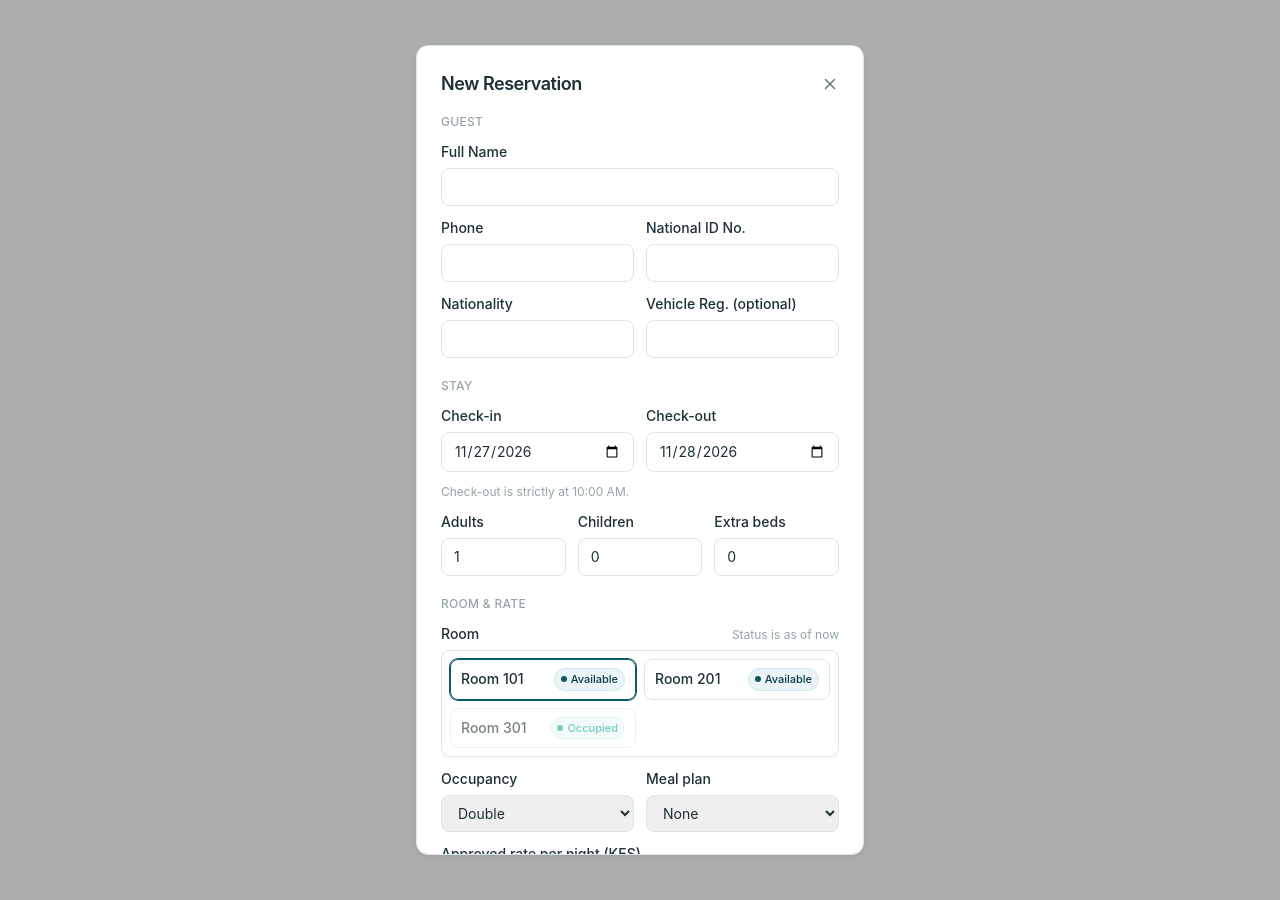
it: CreateReservationModal pricing › keeps the occupancy pickers when a later quote fails
The width and height of the screenshot is (1280, 900).
Replace the text in the number field with test id "adults" with "3" at (503, 557), box [441,538,566,576]
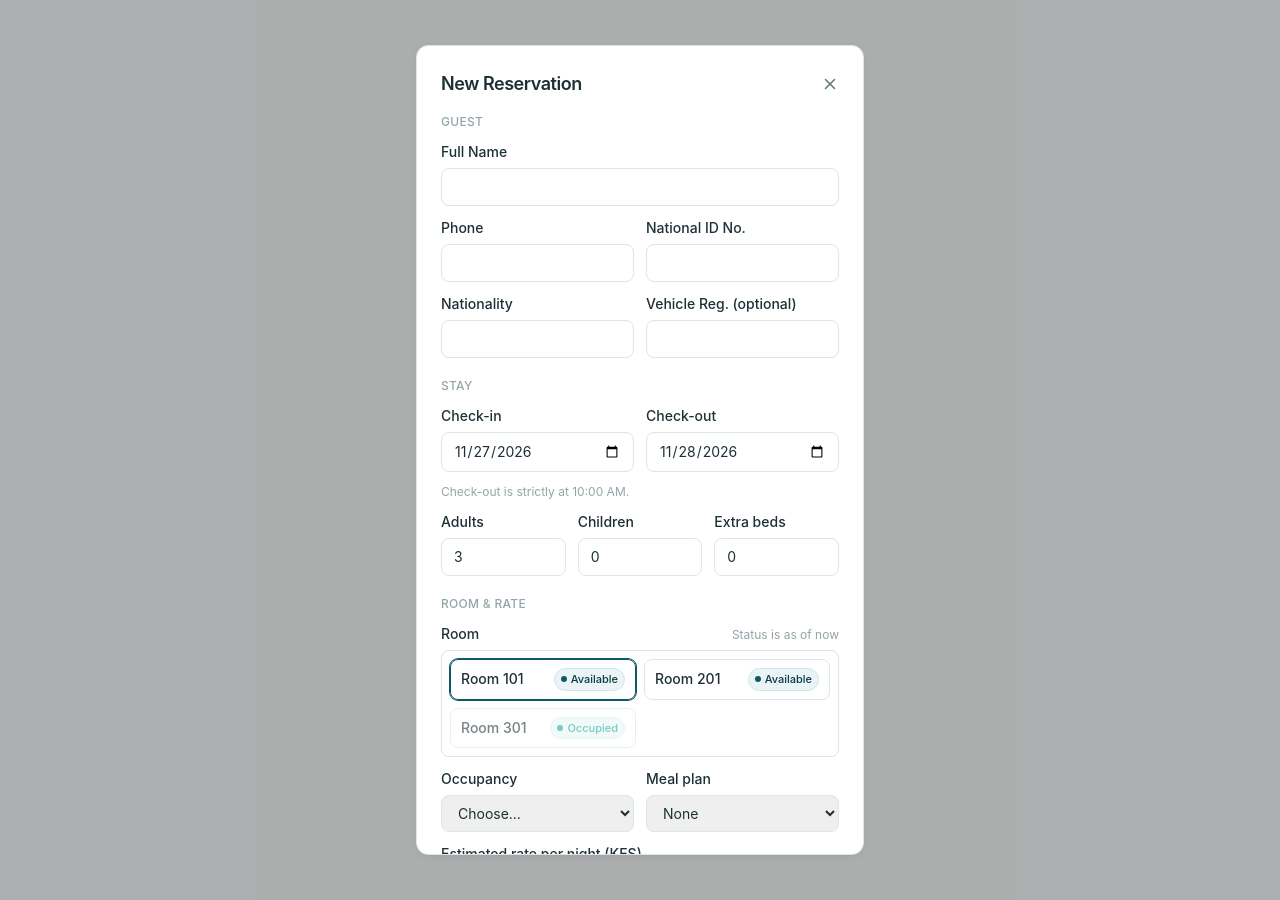
Type "Amina Wanjiru" into the field below "Full Name" at (640, 187), box [441,168,839,206]
(page scrolled)
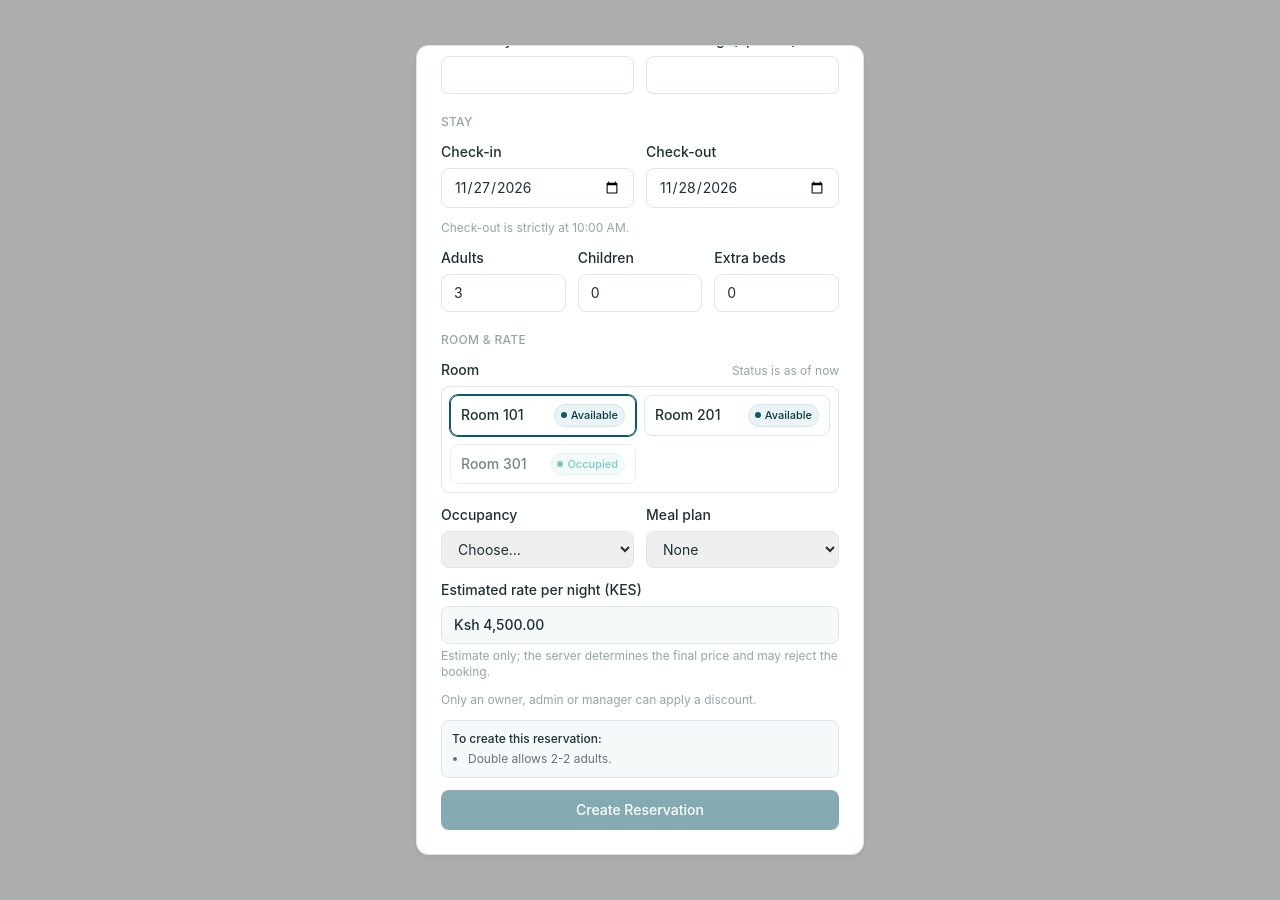
Check: the button "Create Reservation" is disabled, box [441,790,839,830]
